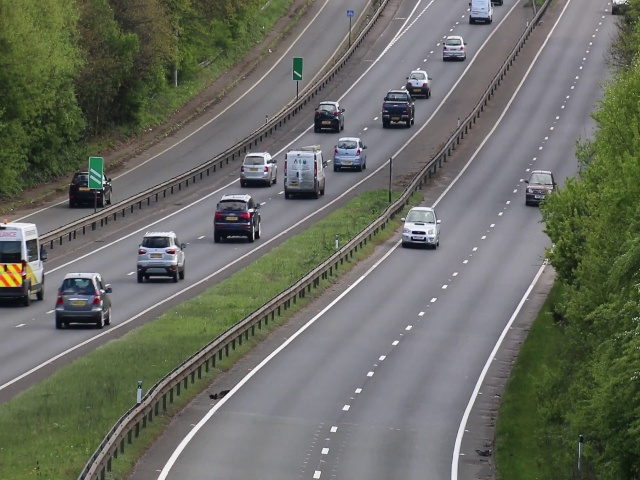car: (1, 217, 45, 306), (53, 272, 113, 332), (212, 193, 263, 245), (136, 231, 187, 283), (282, 146, 326, 199), (398, 202, 443, 251), (239, 150, 278, 189), (381, 90, 415, 129), (333, 136, 369, 172), (313, 100, 346, 135), (524, 167, 551, 204), (439, 33, 469, 62), (406, 67, 432, 99), (70, 172, 89, 208), (85, 187, 114, 210), (467, 1, 492, 25)
